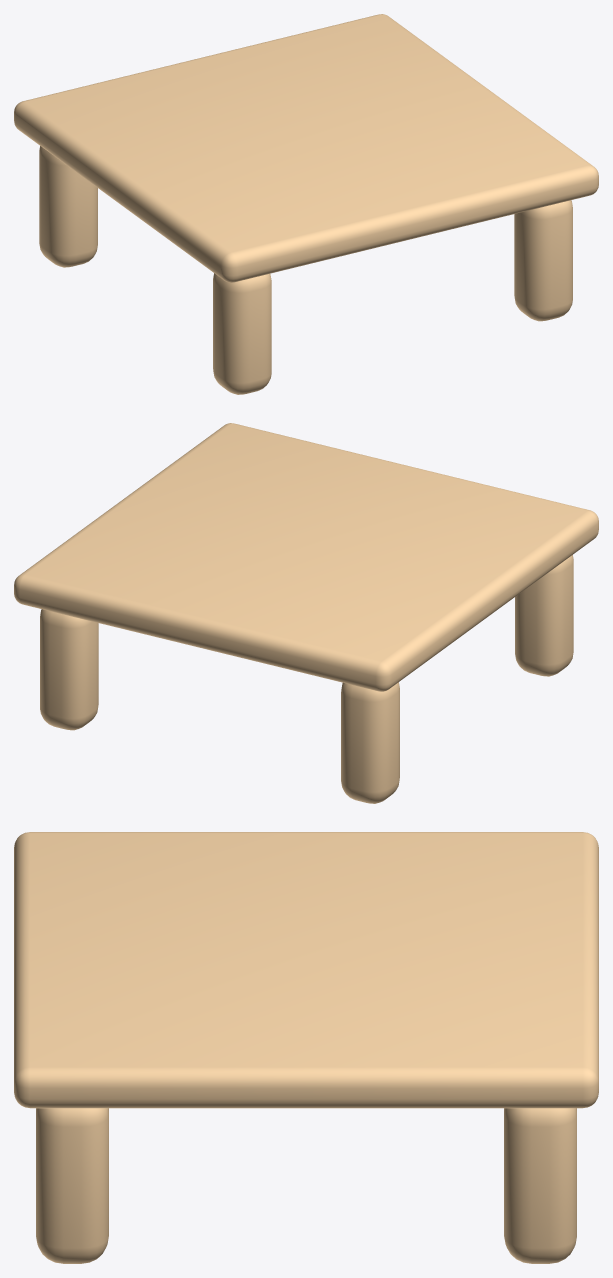
File: Coffee Table.fbx
3 renders of one model, top to bottom at view 1: azimuth 30°, elevation 25°; view 2: azimuth 150°, elevation 25°; view 3: azimuth 270°, elevation 25°, orthographic. The views are drawn at different scales.
Visible parts, largest first — view 1: Coffee Table; view 2: Coffee Table; view 3: Coffee Table.
Part boxes in pixels (x1,y1,x2,y2): Coffee Table: [14, 14, 598, 394]; Coffee Table: [14, 423, 598, 803]; Coffee Table: [14, 832, 598, 1263].
Size of the model in its own units: 0.4933 by 0.4933 by 0.1943.
